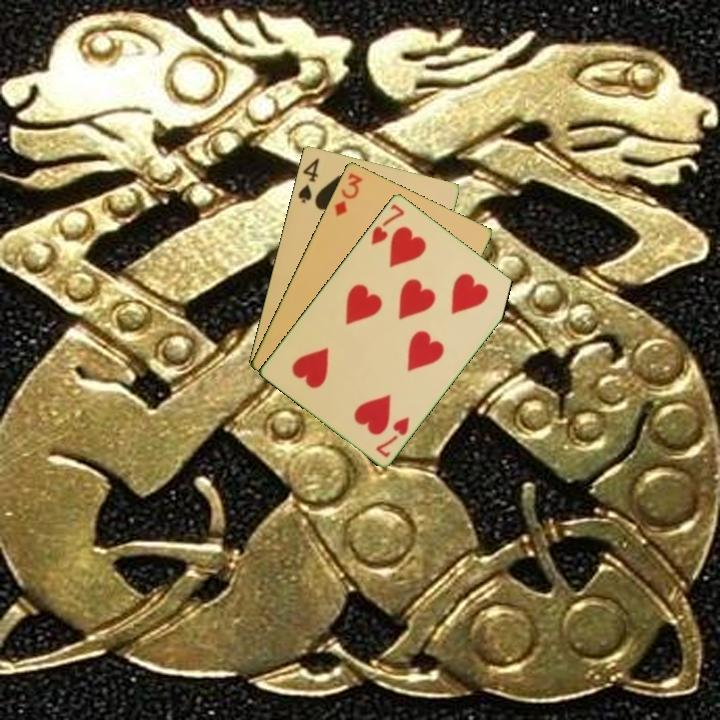3d: (330, 169, 365, 220)
4s: (294, 154, 322, 206)
7h: (367, 200, 408, 248), (372, 413, 412, 460)
